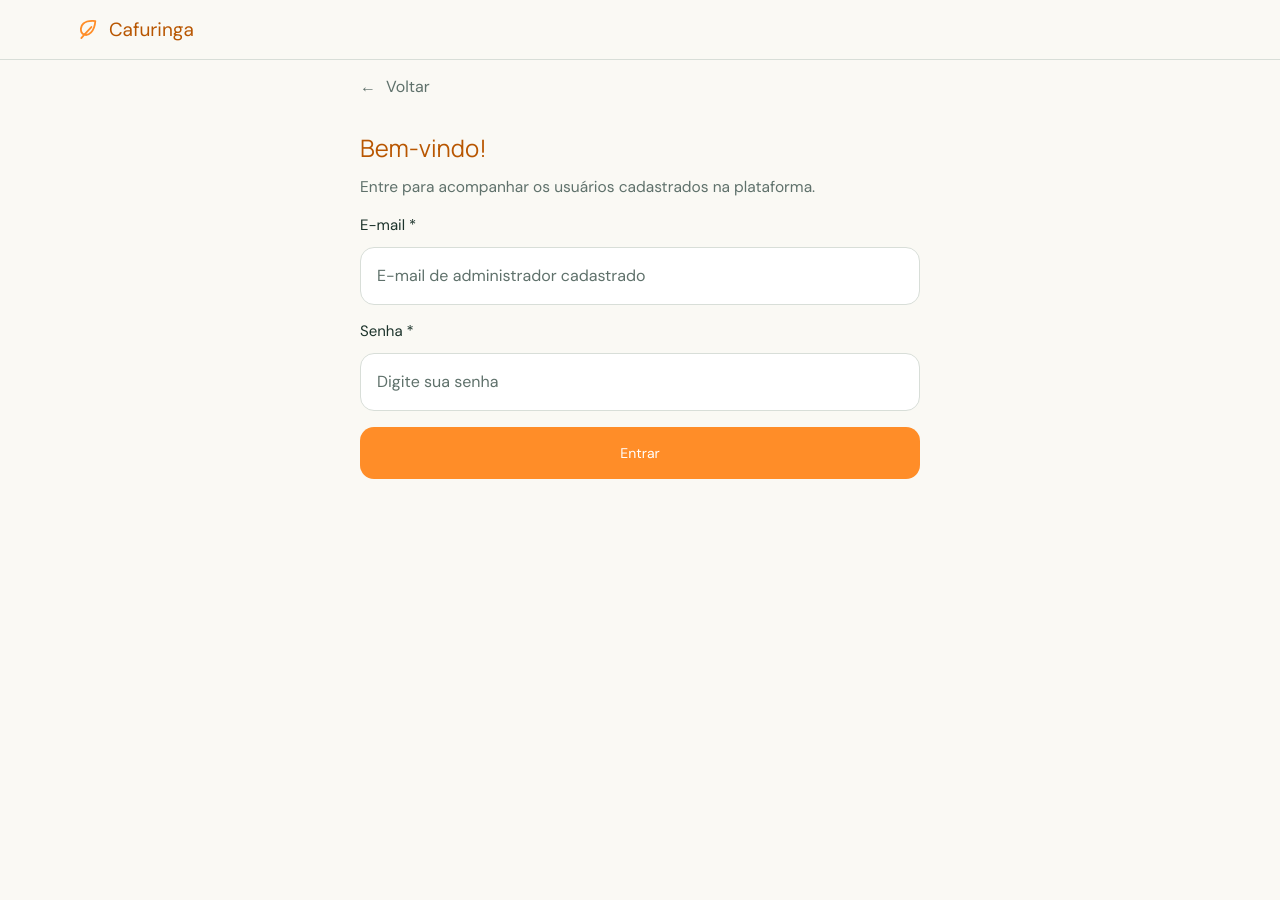
Test: cadastro de administrador — HU03 › mostra o conflito de e-mail duplicado sem perder o preenchimento
Type "admin@exemplo.com" into the field labelled "E-mail" at (640, 276), box left=360, top=247, right=920, bottom=305
Type "senha123" into the password field labelled "Senha" at (640, 382), box left=360, top=353, right=920, bottom=411
Click the button "Entrar" at (640, 453), box left=360, top=427, right=920, bottom=479
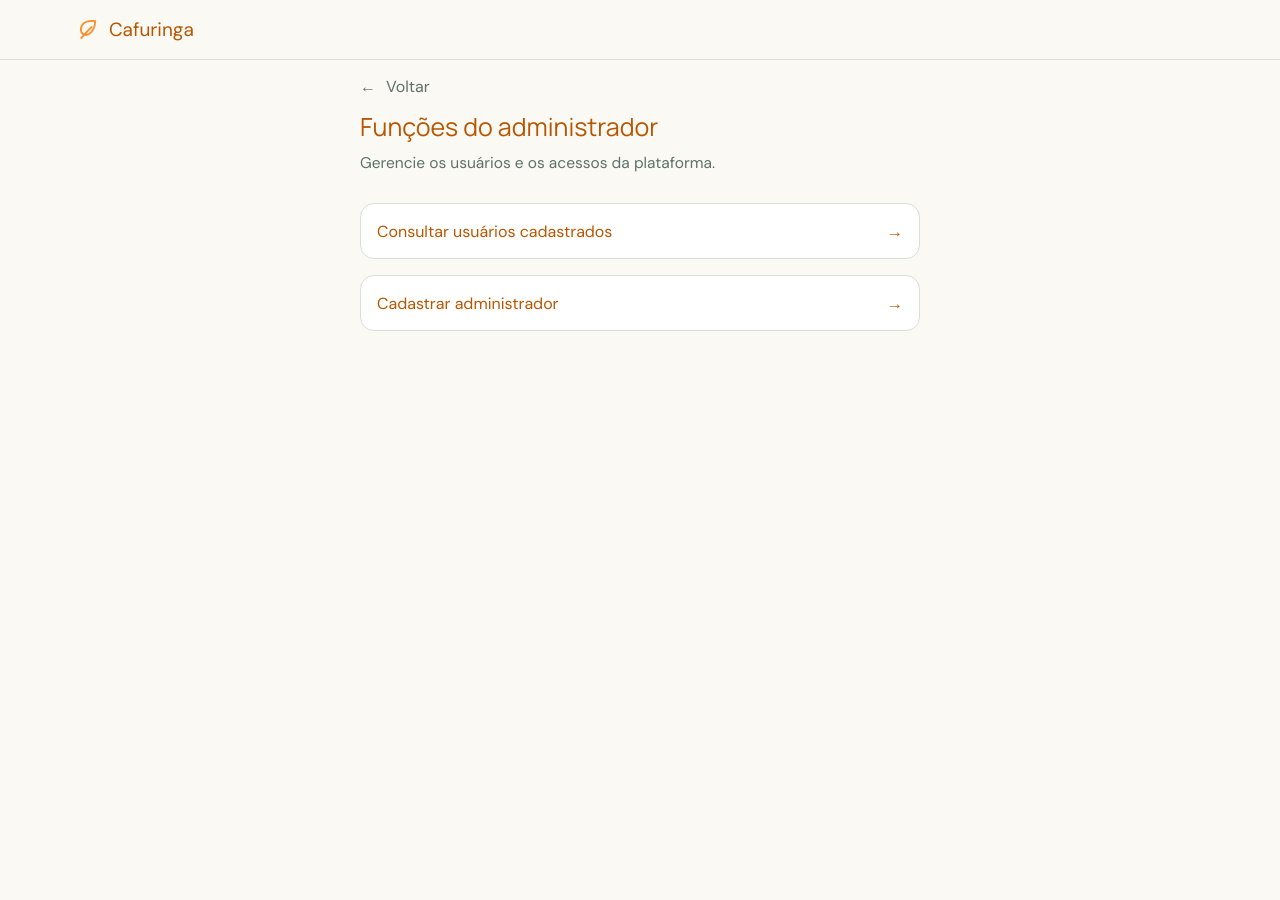
Check: the heading "Funções do administrador" is shown, box left=360, top=109, right=658, bottom=144
Click the link "Cadastrar administrador →" at (468, 303), box left=360, top=275, right=920, bottom=331
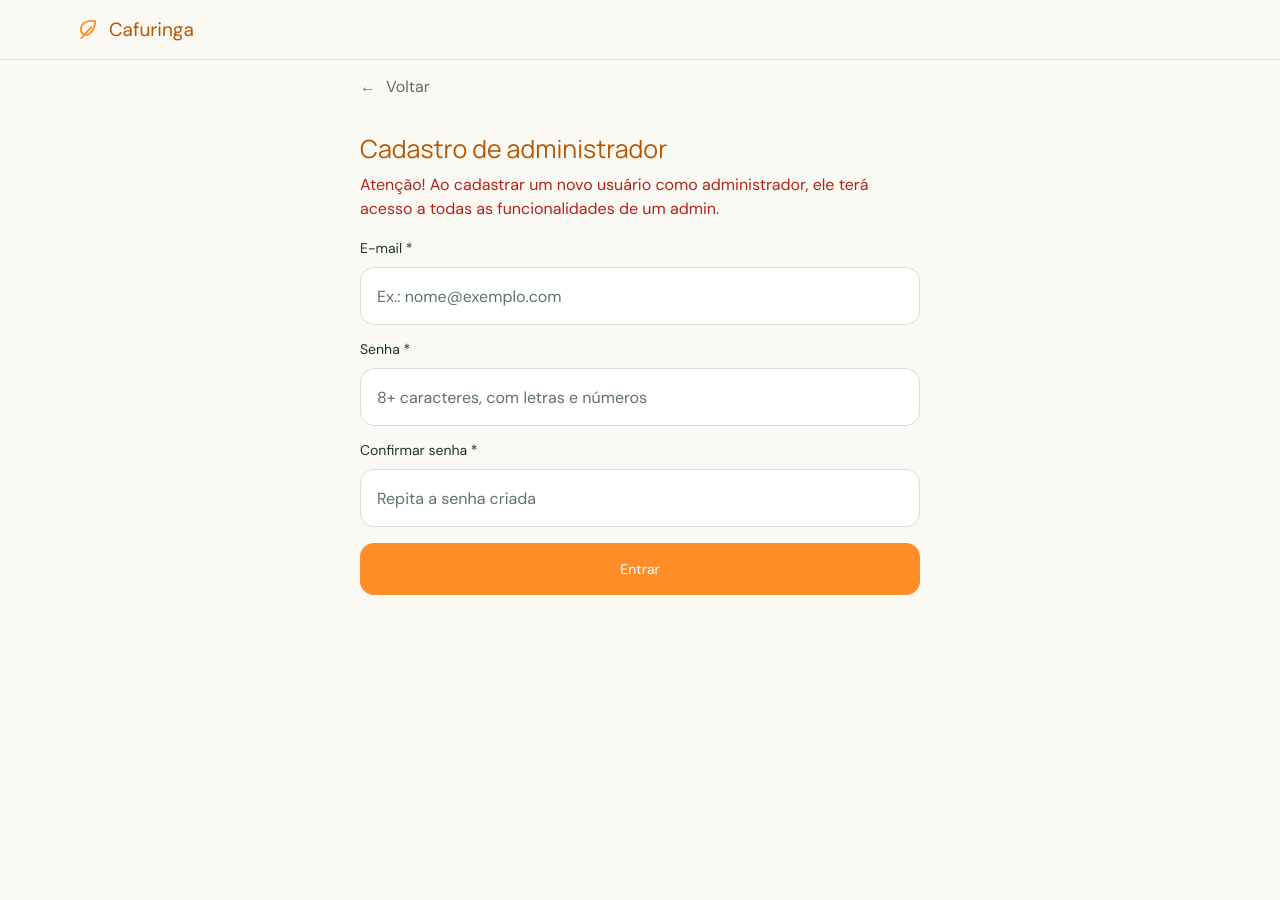
Check: the heading "Cadastro de administrador" is shown, box left=360, top=131, right=667, bottom=166
Type "existente@exemplo.com" into the field labelled "E-mail" at (640, 296), box left=360, top=267, right=920, bottom=325
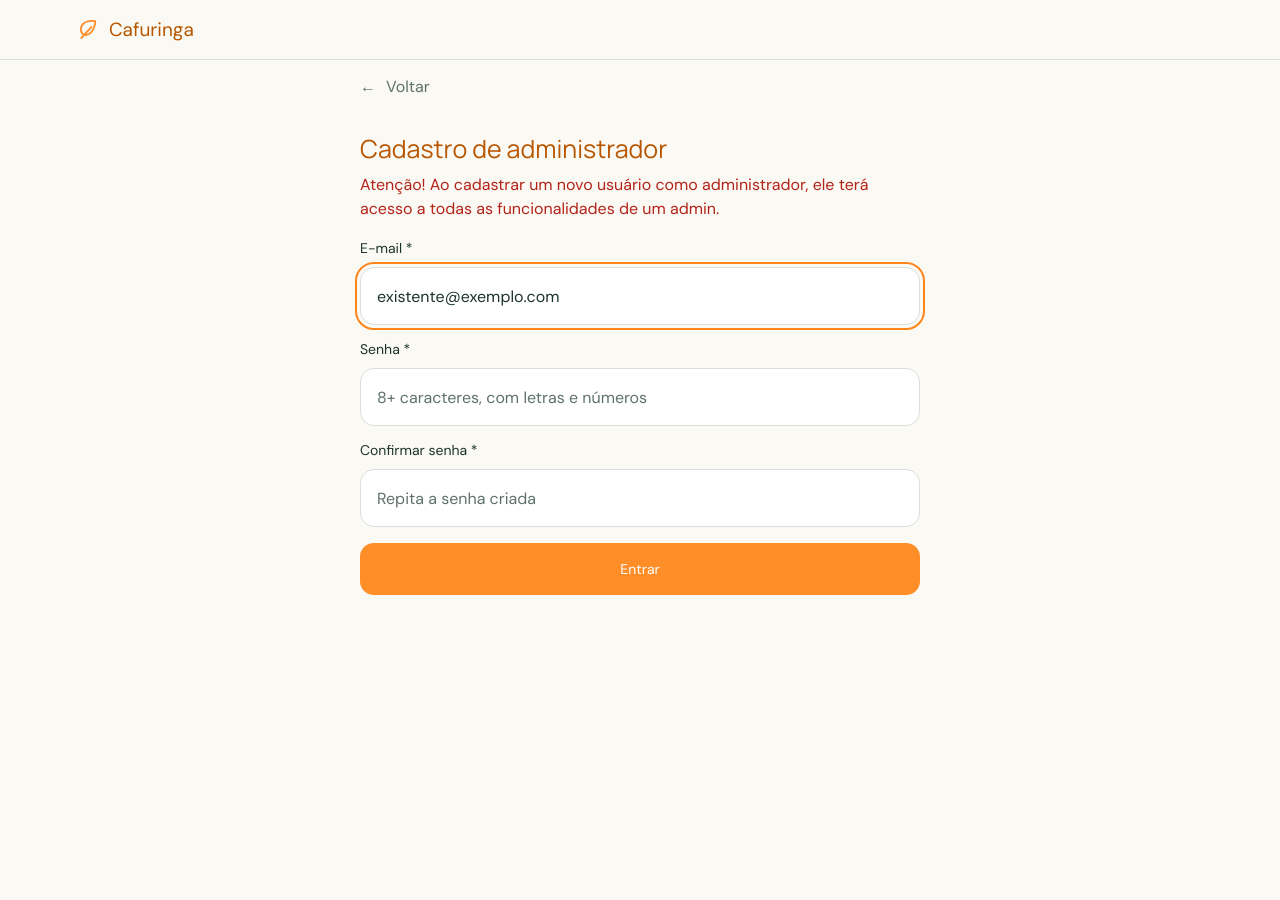
Type "SenhaForte123" into the password field labelled "Senha" at (640, 397), box left=360, top=368, right=920, bottom=426
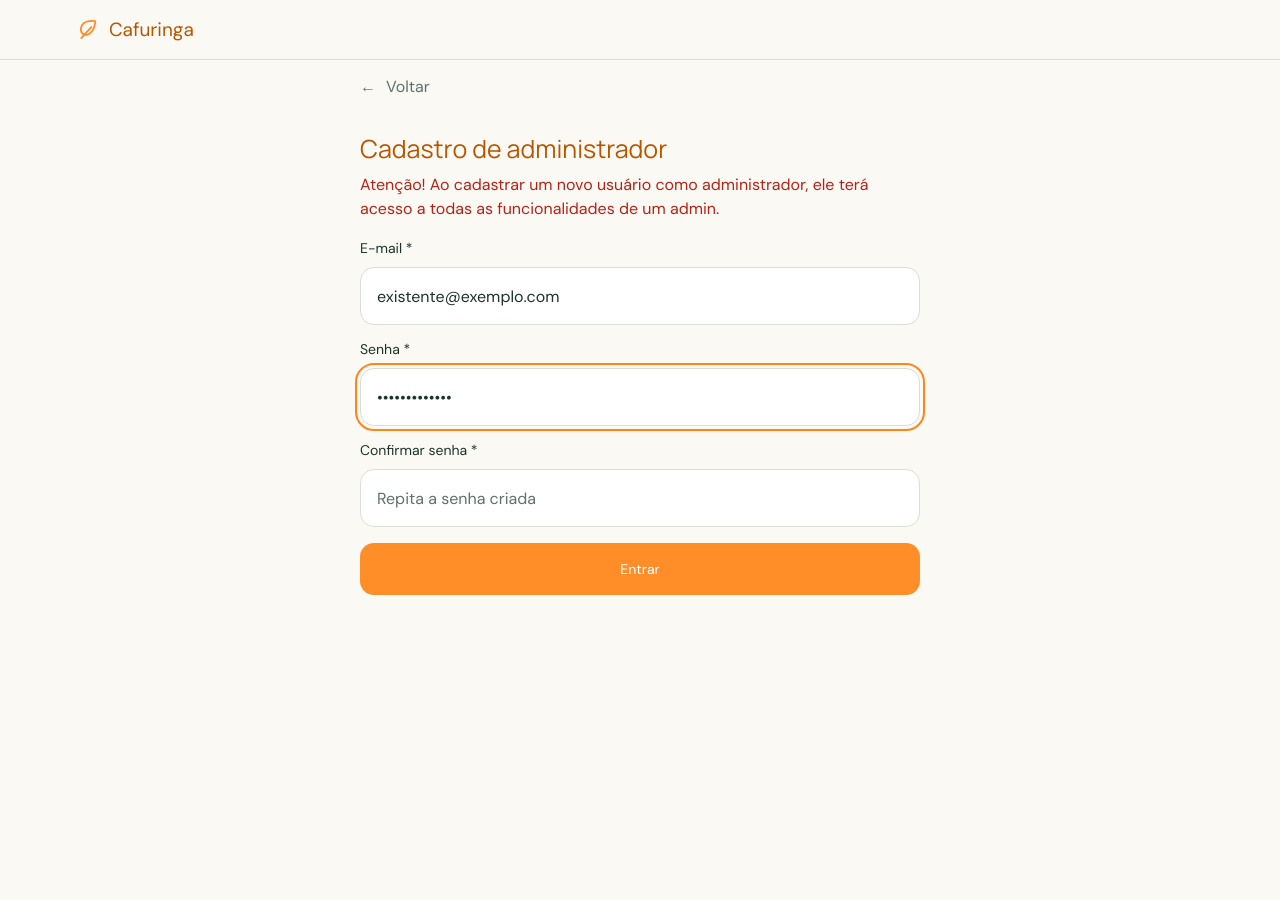
Type "SenhaForte123" into the password field labelled "Confirmar senha" at (640, 498), box left=360, top=469, right=920, bottom=527
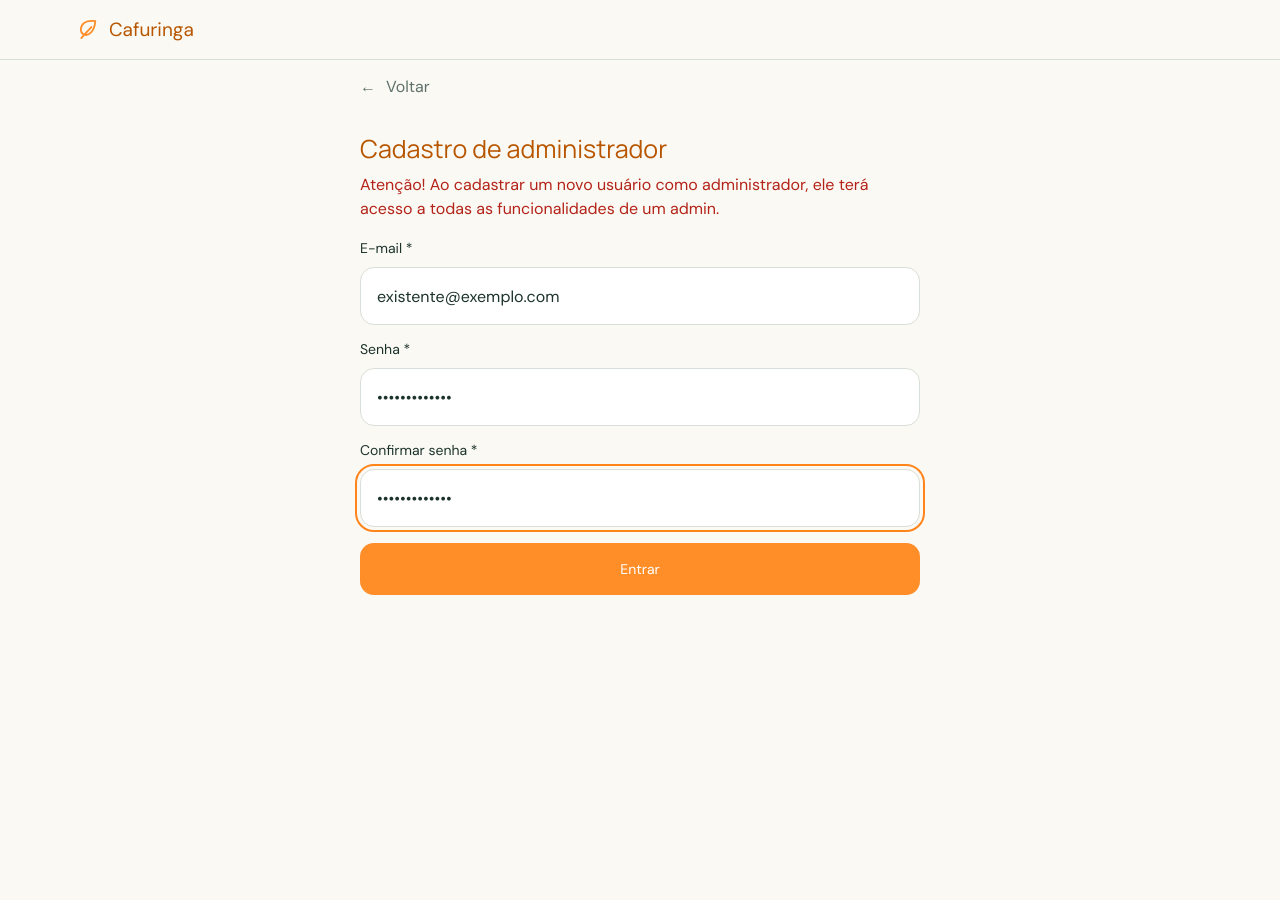
Click the button "Entrar" at (640, 569), box left=360, top=543, right=920, bottom=595
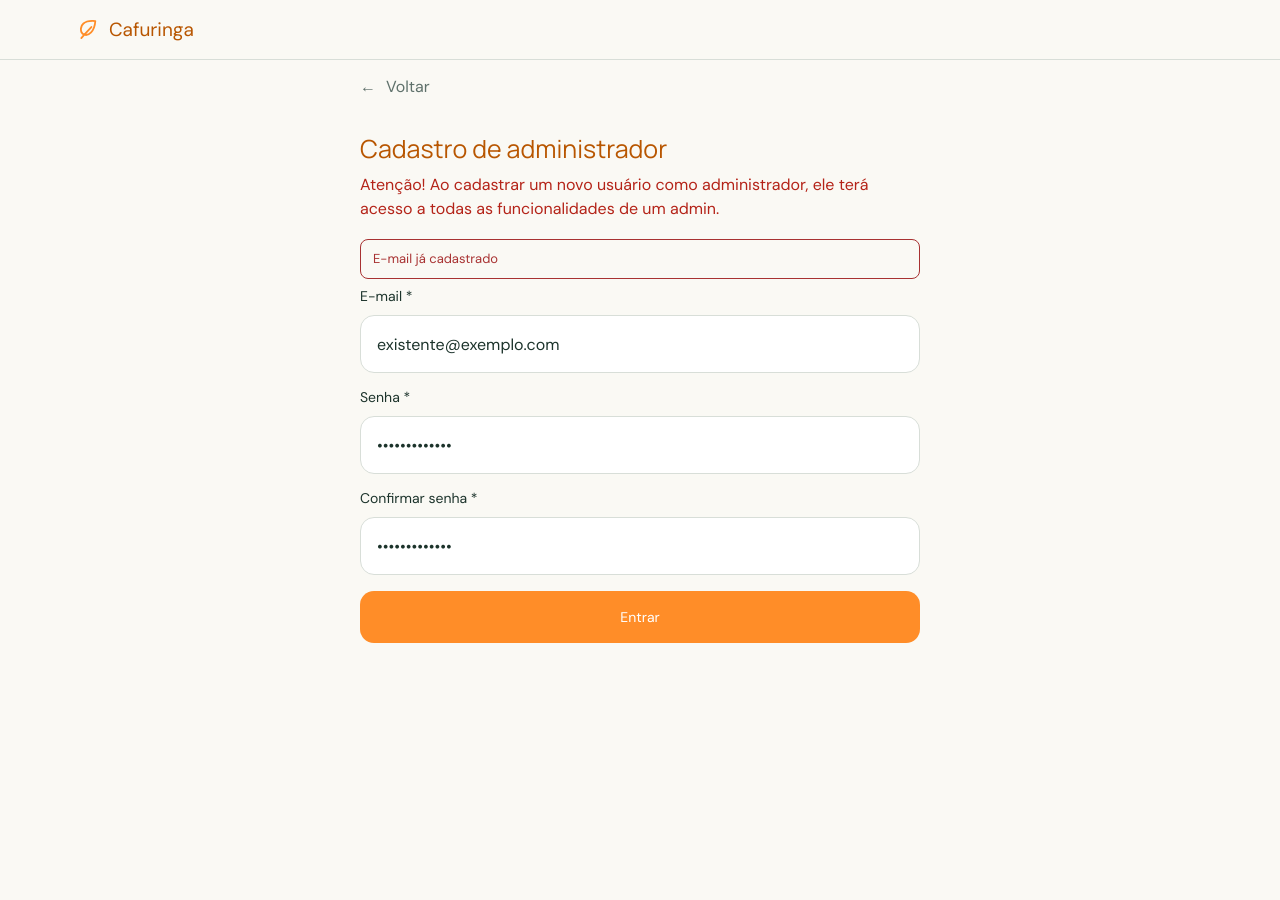
Check: the message reads "E-mail já cadastrado", box left=373, top=250, right=498, bottom=267
